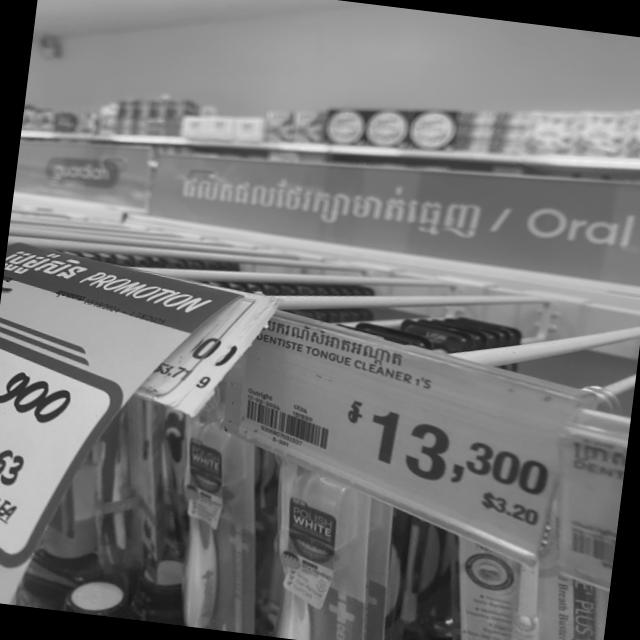142: (468, 488, 542, 533)
145: (443, 428, 560, 504)
532: (81, 295, 168, 328)
574: (358, 400, 463, 491)
808: (0, 442, 38, 496)
879: (0, 363, 81, 431)
Yolov11_80vkh: (265, 314, 408, 371), (6, 243, 94, 285), (342, 399, 368, 429), (49, 286, 89, 305)
